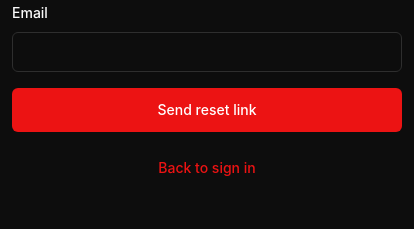
Test: intercepted recovery requests › makes a failed request retryable without provider details
Type "mock@example.test" into the field labelled "Email" at {"x": 207, "y": 52}, box [12,32,402,72]
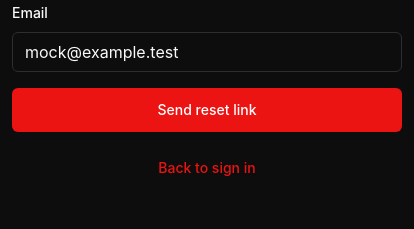
Click the button "Send reset link" at {"x": 207, "y": 110}, box [12,88,402,132]
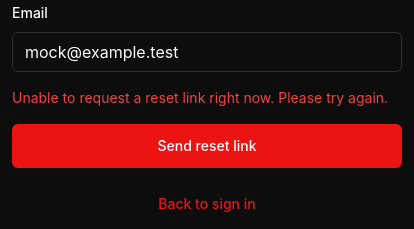
Expected: the button "Send reset link" is enabled, [12,124,402,168]
Expected: the message shows "Unable to request", [12,89,388,106]
